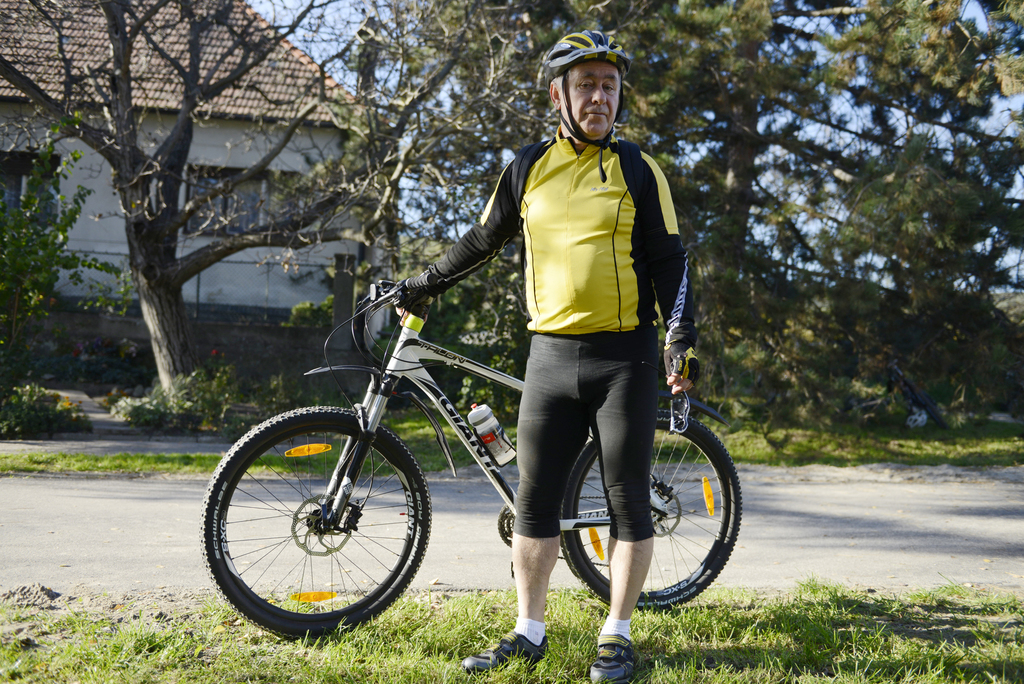Bike: (200, 280, 666, 643)
